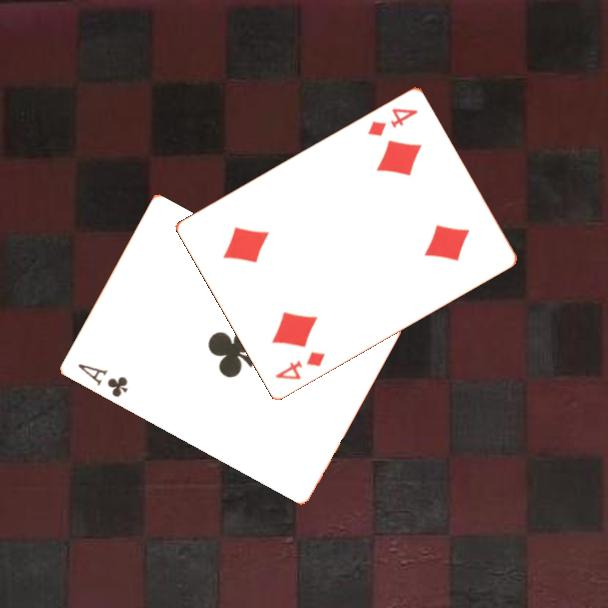c01: (74, 360, 130, 400)
d04: (364, 104, 421, 139), (272, 348, 328, 382)
